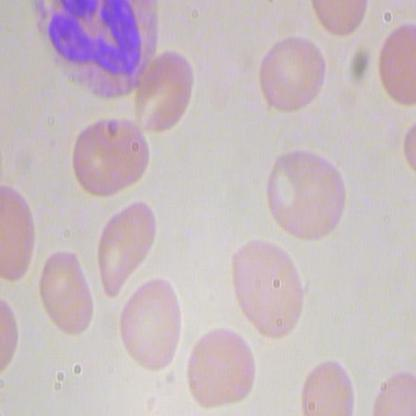RBC: (258, 143, 356, 241), (229, 233, 314, 342), (65, 115, 155, 198), (95, 198, 163, 301), (120, 274, 188, 376), (185, 325, 257, 415), (34, 241, 98, 342), (256, 33, 328, 113), (133, 48, 195, 136), (293, 356, 362, 415)
WBC: (16, 1, 172, 98)
